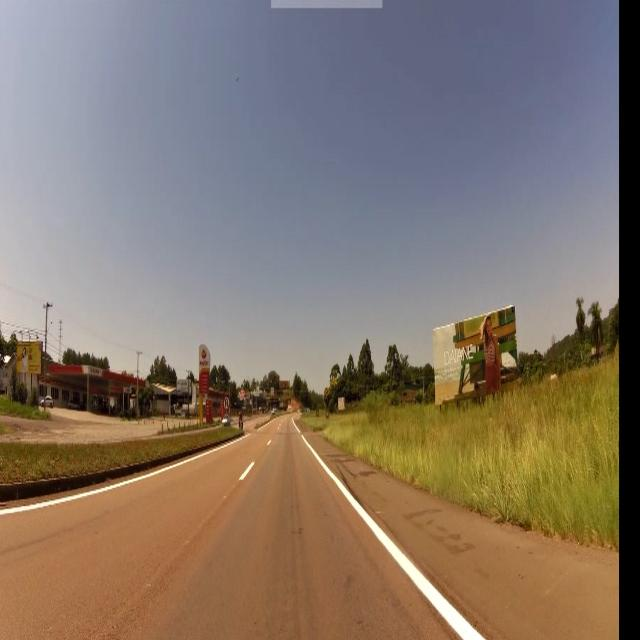R-5a: (222, 394, 232, 413)
